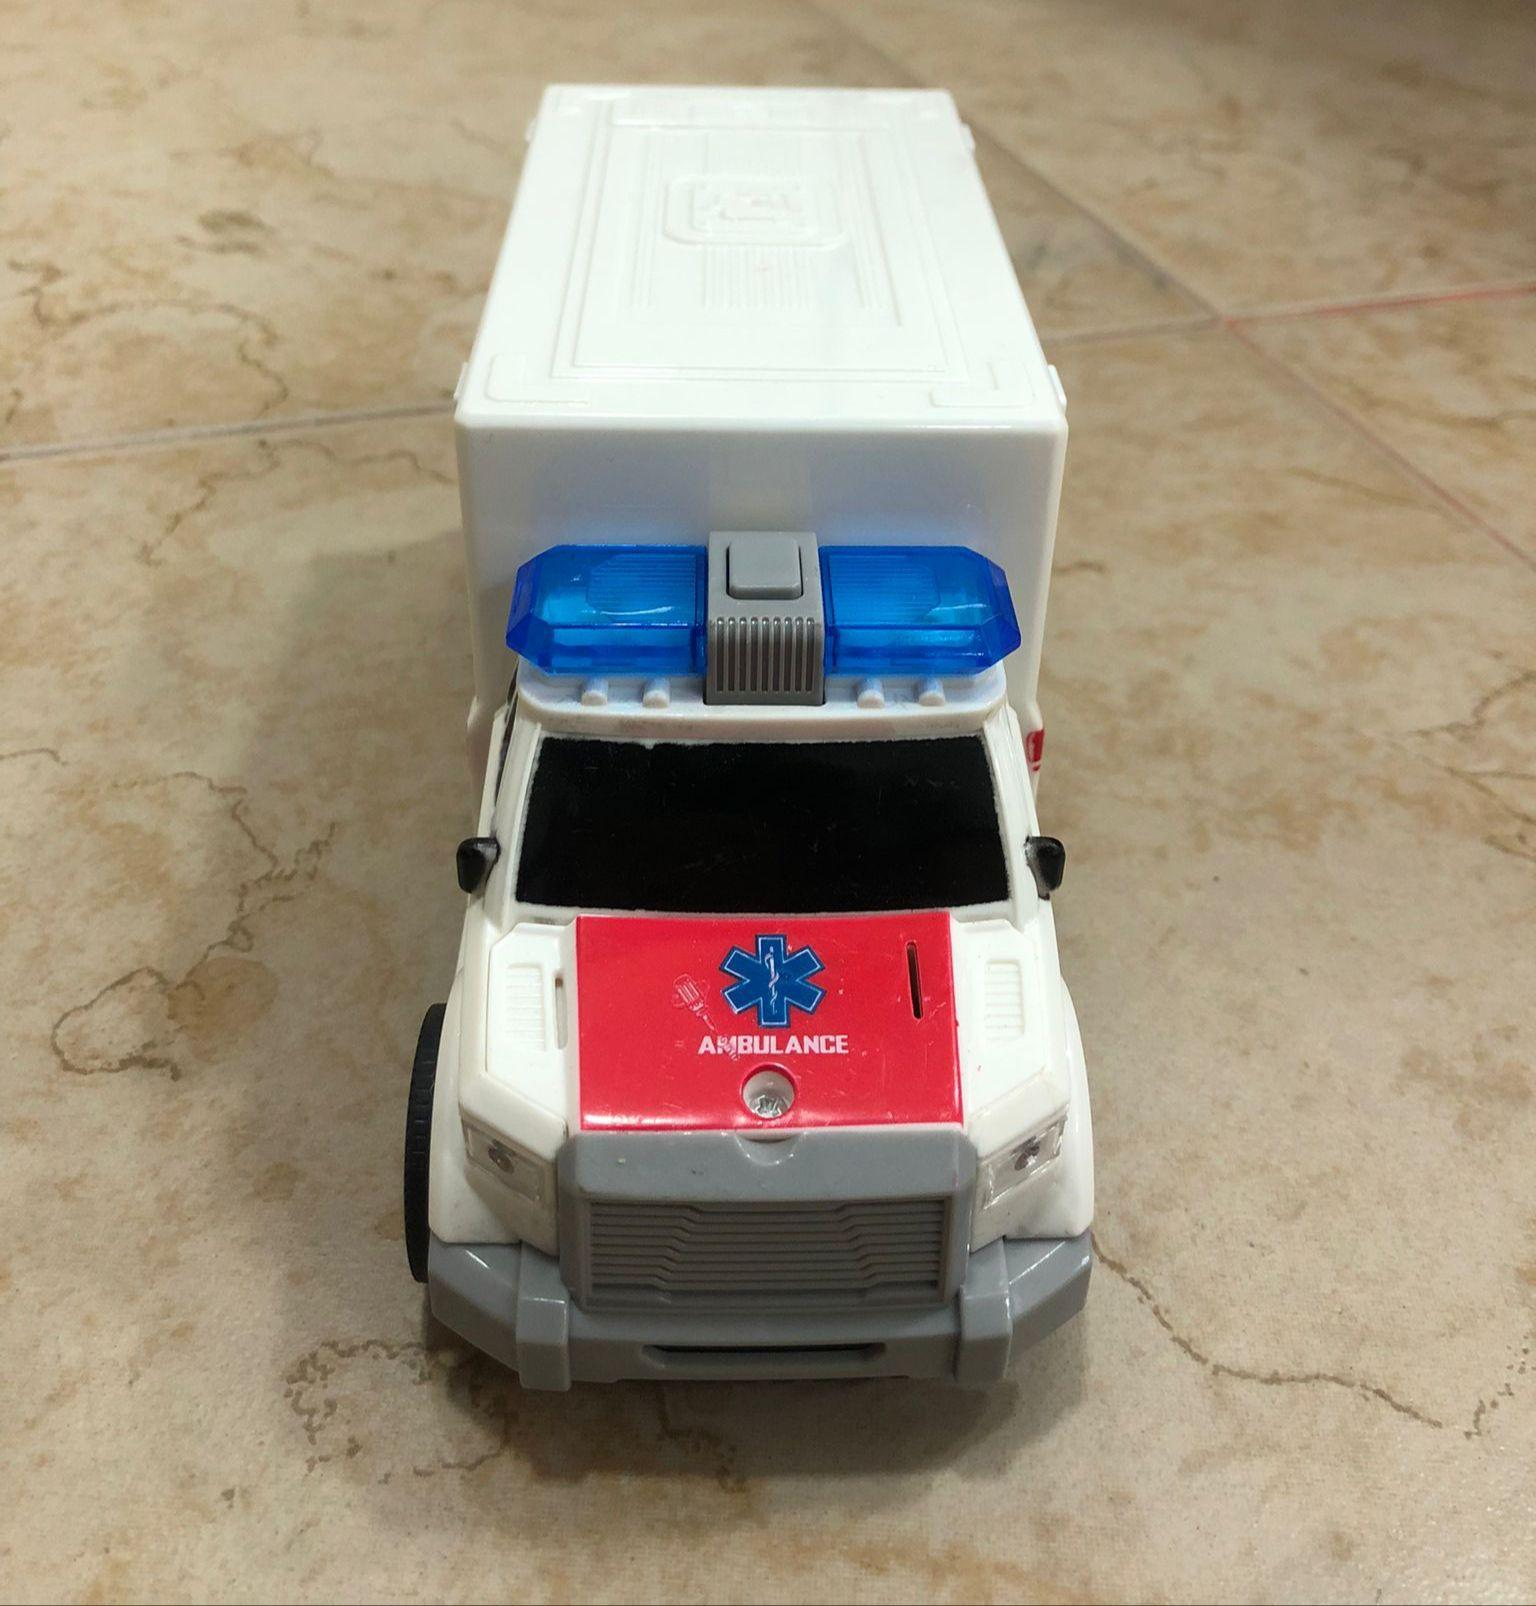ambulance_off: (409, 86, 1104, 1401)
